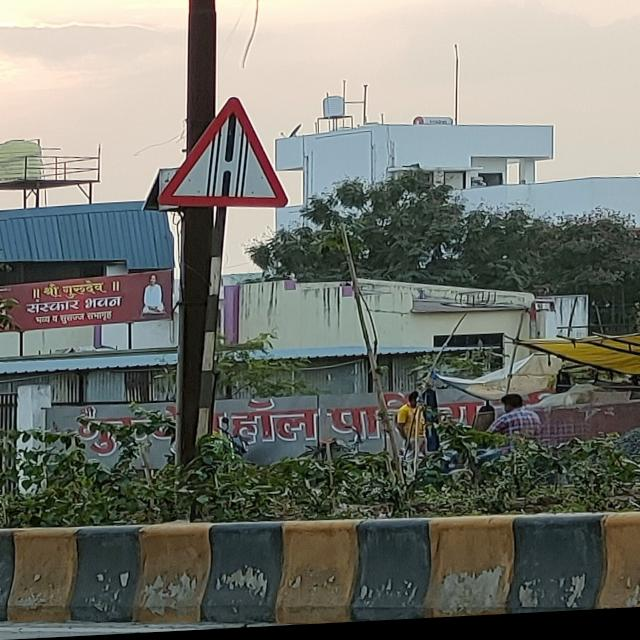GAP_IN_MEDIAN: (158, 95, 285, 218)
